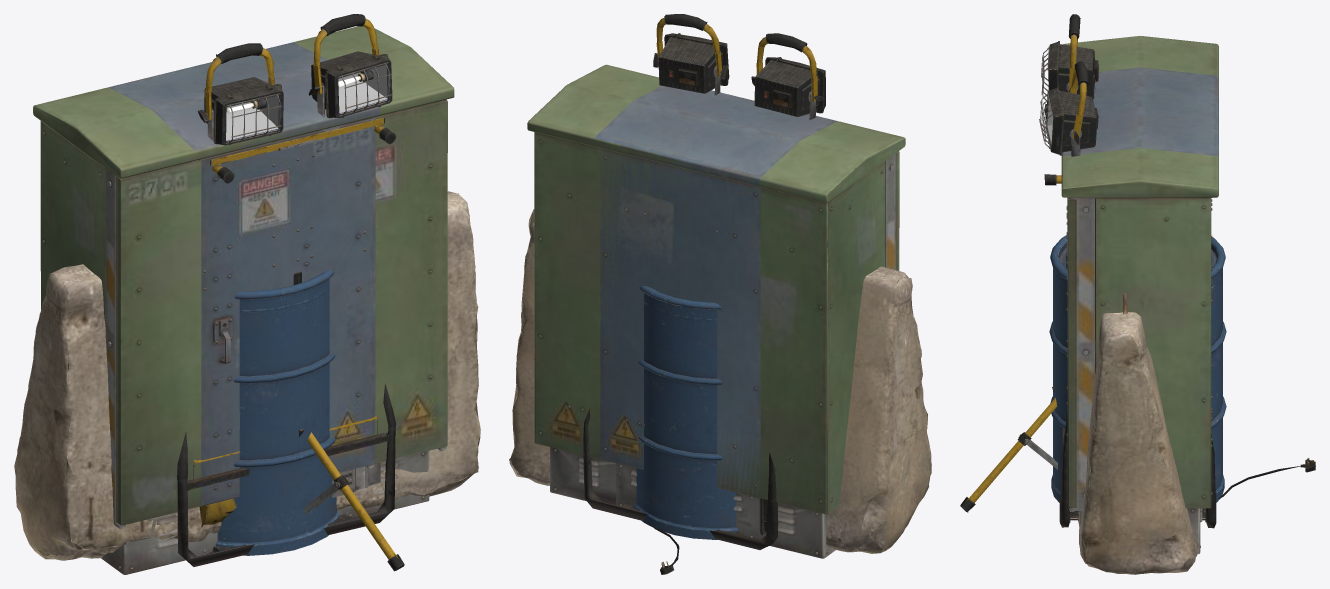
File: industrial.glb
3 views of the same model, side by side, from view 1: azimuth 30°, elevation 25°; view 2: azimuth 150°, elevation 25°; view 3: azimuth 270°, elevation 25° (orthographic). The views are drawn at different scales.
Visible parts, largest first — view 1: cabinet_b, cabinet_a, barrier, barrel_blue, worklight, generator; view 2: cabinet_b, cabinet_a, barrier, barrel_blue, worklight, generator; view 3: cabinet_b, barrier, cabinet_a, worklight, barrel_blue, generator.
Boxes of the visible parts, left/top/right/bottom form: cabinet_b: left=33, top=26, right=454, bottom=574; cabinet_a: left=109, top=42, right=380, bottom=555; barrier: left=14, top=191, right=480, bottom=560; barrel_blue: left=215, top=270, right=339, bottom=555; worklight: left=198, top=14, right=404, bottom=571; generator: left=177, top=383, right=396, bottom=566; cabinet_b: left=527, top=64, right=905, bottom=558; cabinet_a: left=594, top=86, right=837, bottom=537; barrier: left=509, top=209, right=931, bottom=553; barrel_blue: left=634, top=286, right=738, bottom=539; worklight: left=651, top=14, right=825, bottom=574; generator: left=583, top=409, right=778, bottom=549; cabinet_b: left=1061, top=36, right=1218, bottom=554; barrier: left=1078, top=293, right=1198, bottom=574; cabinet_a: left=1061, top=67, right=1218, bottom=419; worklight: left=960, top=14, right=1315, bottom=512; barrel_blue: left=1049, top=235, right=1226, bottom=511; generator: left=1059, top=413, right=1216, bottom=528.
Size of the model in its own units: 1.56 by 1.79 by 1.28.
Materials: 8 (8 with a texture image).
